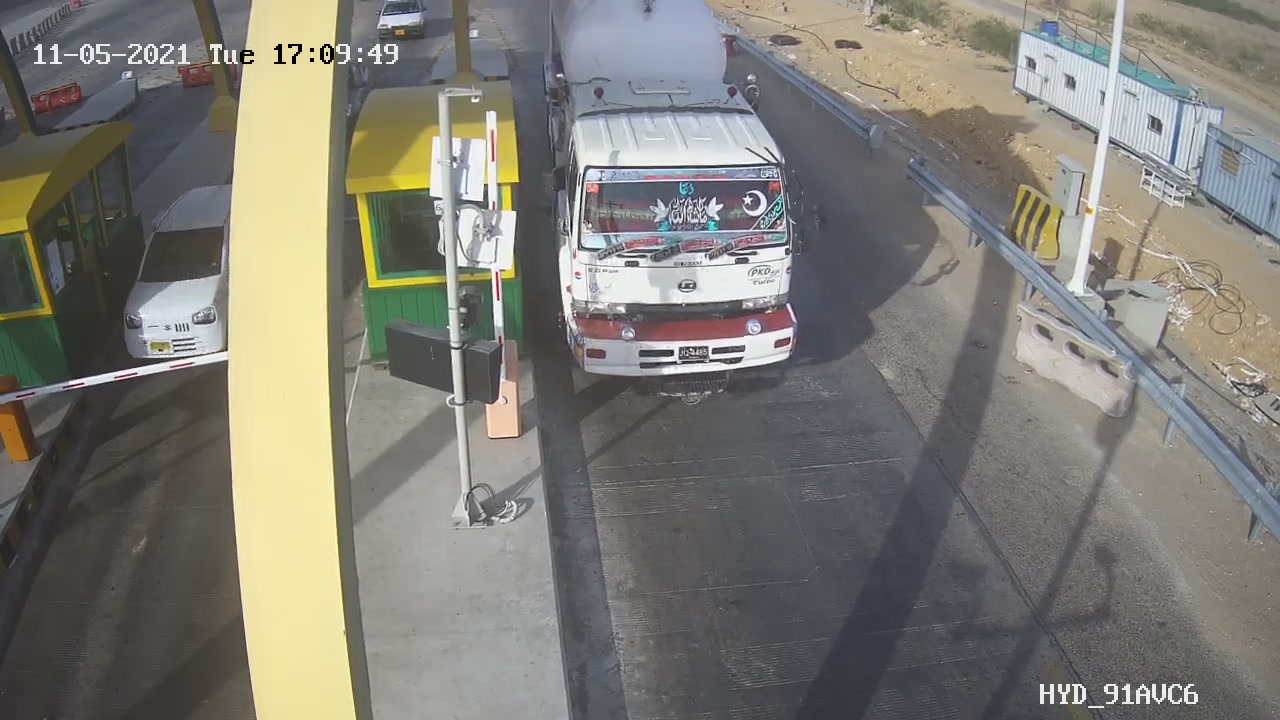F6: (524, 1, 853, 427)
